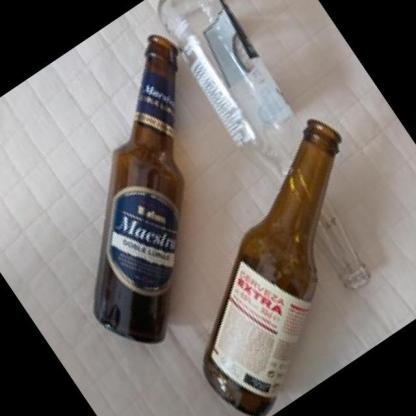Can: (146, 0, 371, 291), (202, 117, 343, 416), (91, 34, 186, 344)
